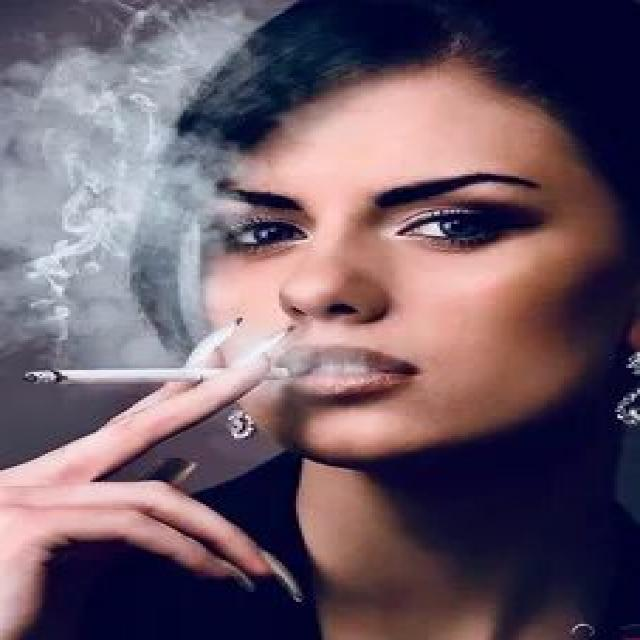cigarette: (14, 362, 316, 390)
